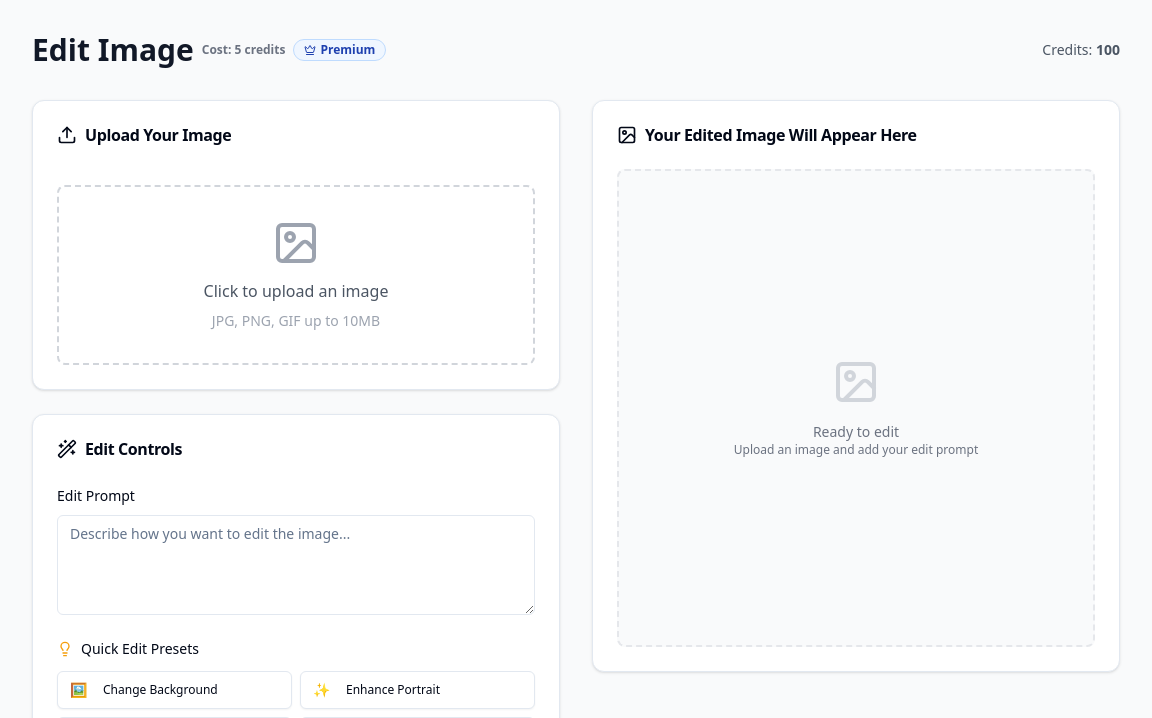
Scenario: Edit Page - Comprehensive Tests › Preset Prompts Functionality › should populate prompt textarea when preset is clicked
Click the text "Enhance Portrait" at (393, 690), box [346,682,440,698]
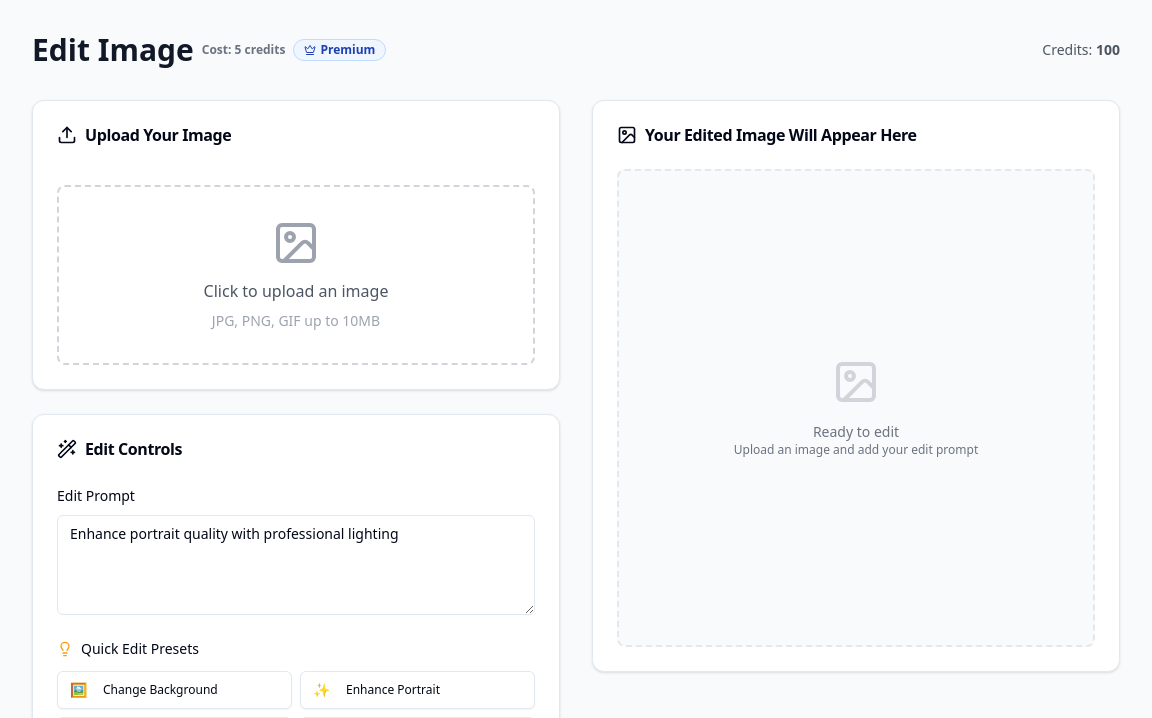
Check: the text box showing "Enhance portrait quality with professional lighting" is shown, box [57,515,535,615]
